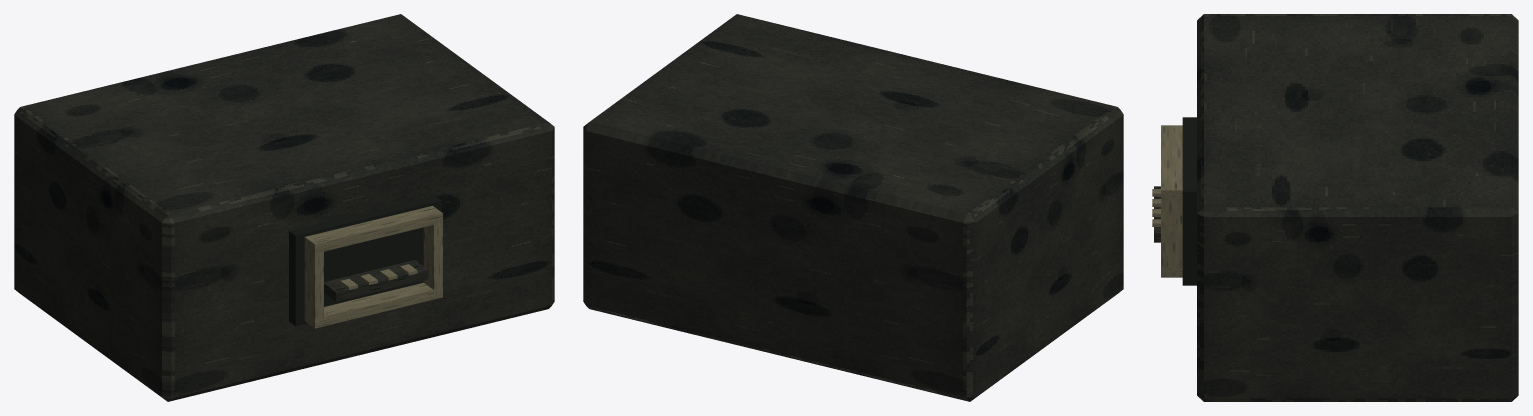
File: retro_modulo_usb.glb
3 renders of one model, left to right at view 1: azimuth 30°, elevation 25°; view 2: azimuth 150°, elevation 25°; view 3: azimuth 270°, elevation 25°, orthographic. The views are drawn at different scales.
Visible parts, largest first — view 1: retro_modulo_usb; view 2: retro_modulo_usb; view 3: retro_modulo_usb.
Part boxes in pixels (<box>): retro_modulo_usb: <box>14,14,554,401</box>; retro_modulo_usb: <box>583,14,1123,401</box>; retro_modulo_usb: <box>1152,14,1518,401</box>.
Bounding box in the file's own units: 0.132 × 0.06 × 0.1025.
4 materials, 2 textured.
